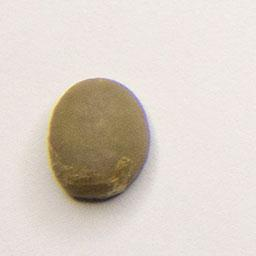premium: (44, 74, 153, 204)
